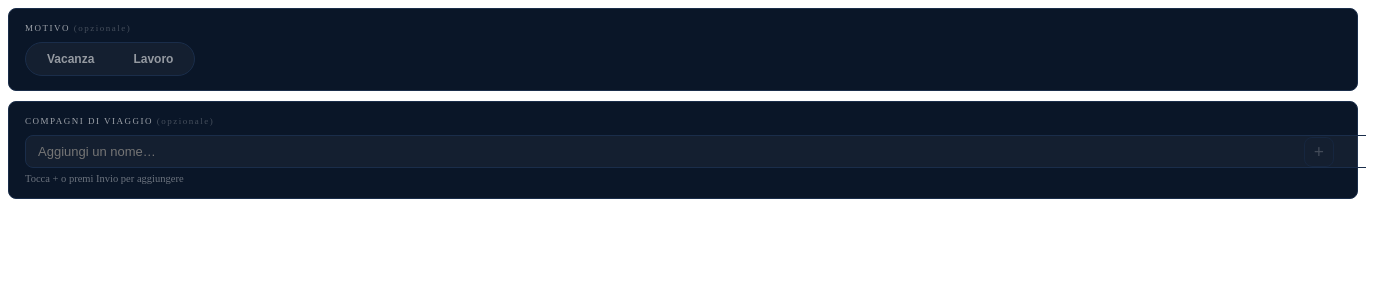
Test case: TripPurposeCompanions — suggerimenti da tastiera › frecce + Invio scelgono il suggerimento evidenziato (con wrap-around)
The width and height of the screenshot is (1378, 284).
In the dropdown with placeholder "Aggiungi un nome…": (696, 152) [25, 135, 1366, 168], type "giu"
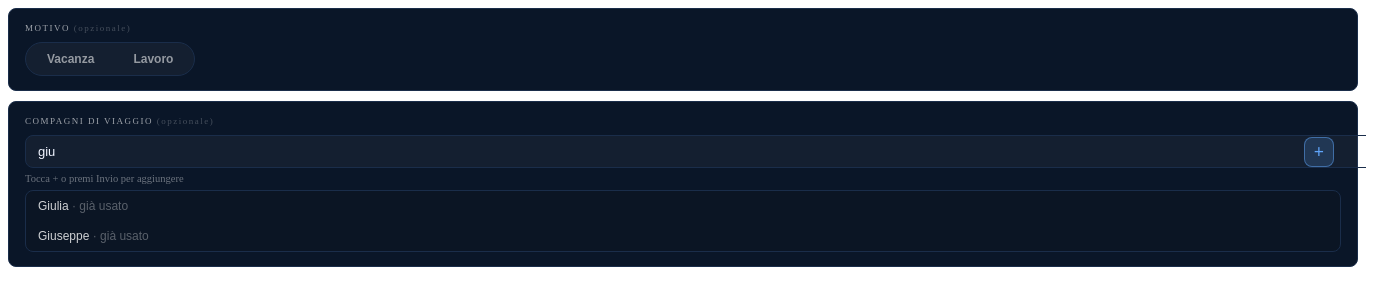
Press ArrowDown in the dropdown with placeholder "Aggiungi un nome…", box [25, 135, 1366, 168]
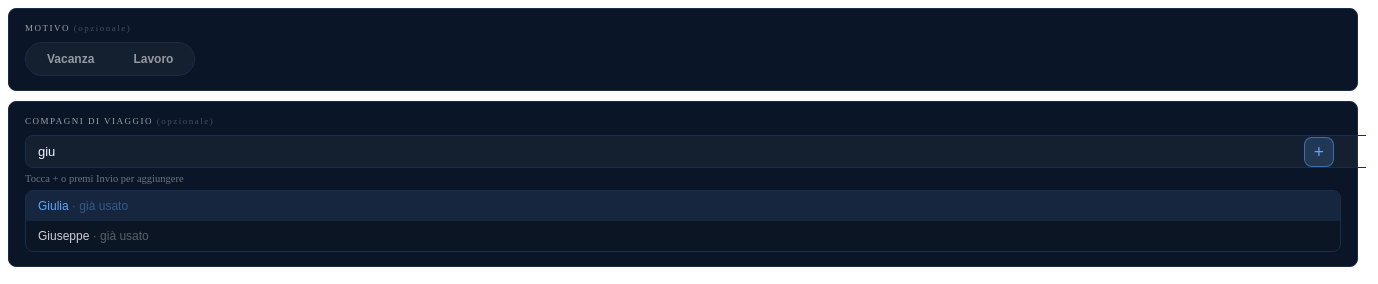
Press ArrowDown in the dropdown with placeholder "Aggiungi un nome…", box [25, 135, 1366, 168]
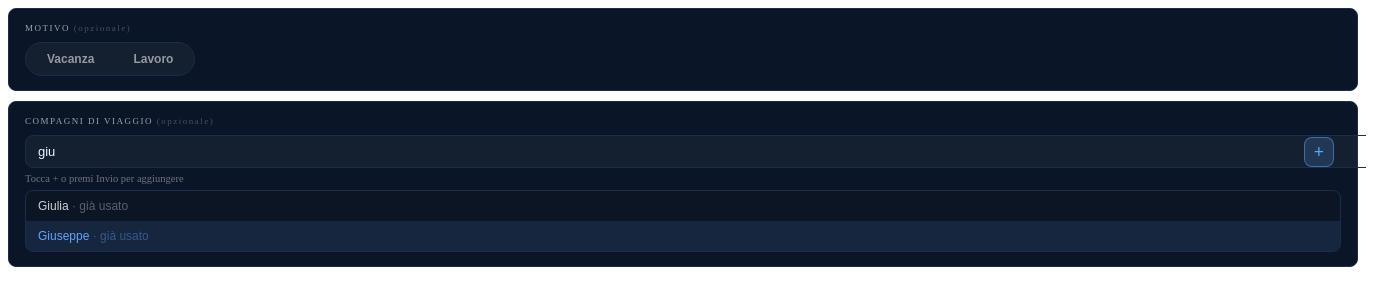
Result: the option "Giuseppe · già usato" is selected at [26, 221, 1340, 251]
Press ArrowDown in the dropdown with placeholder "Aggiungi un nome…", box [25, 135, 1366, 168]
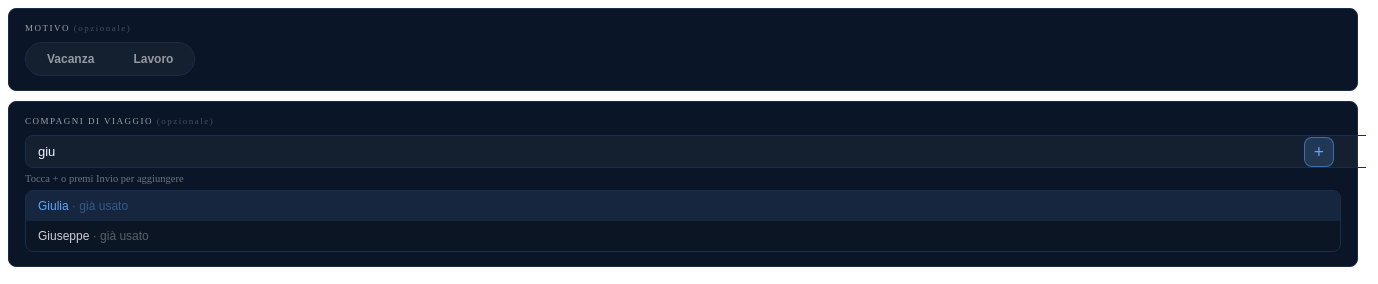
Result: the option "Giulia · già usato" is selected at [26, 191, 1340, 221]
Press Enter in the dropdown with placeholder "Aggiungi un nome…", box [25, 135, 1366, 168]
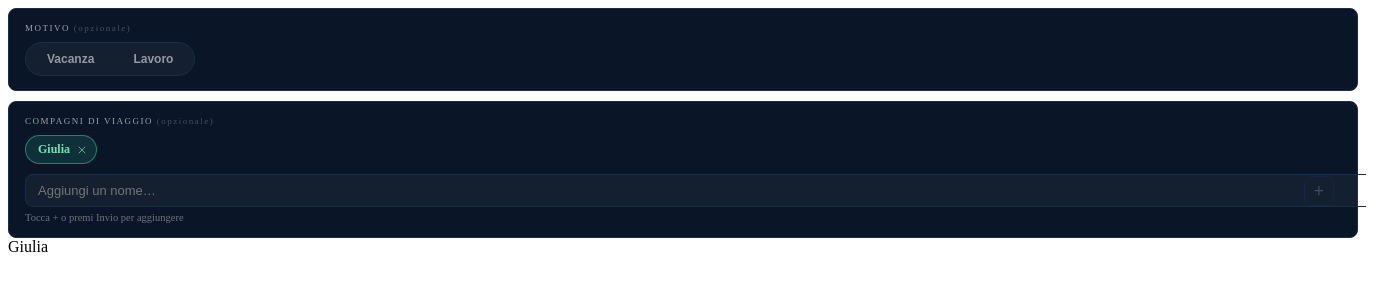
Result: the element showing "Giulia" is shown at [25, 135, 97, 164]
